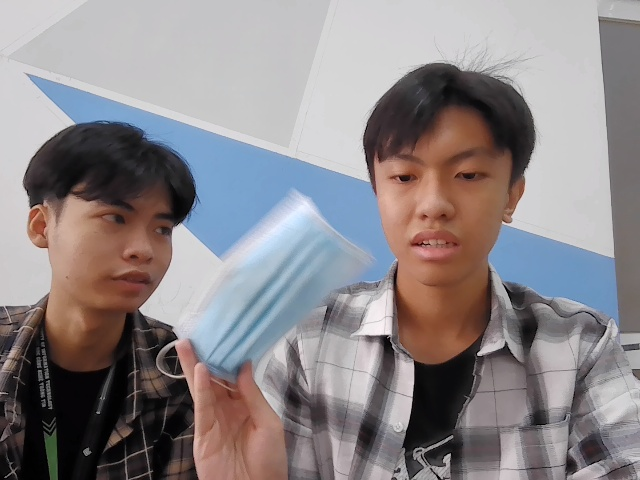human: (359, 56, 542, 282), (29, 111, 197, 317)
mask: (185, 193, 373, 388)
